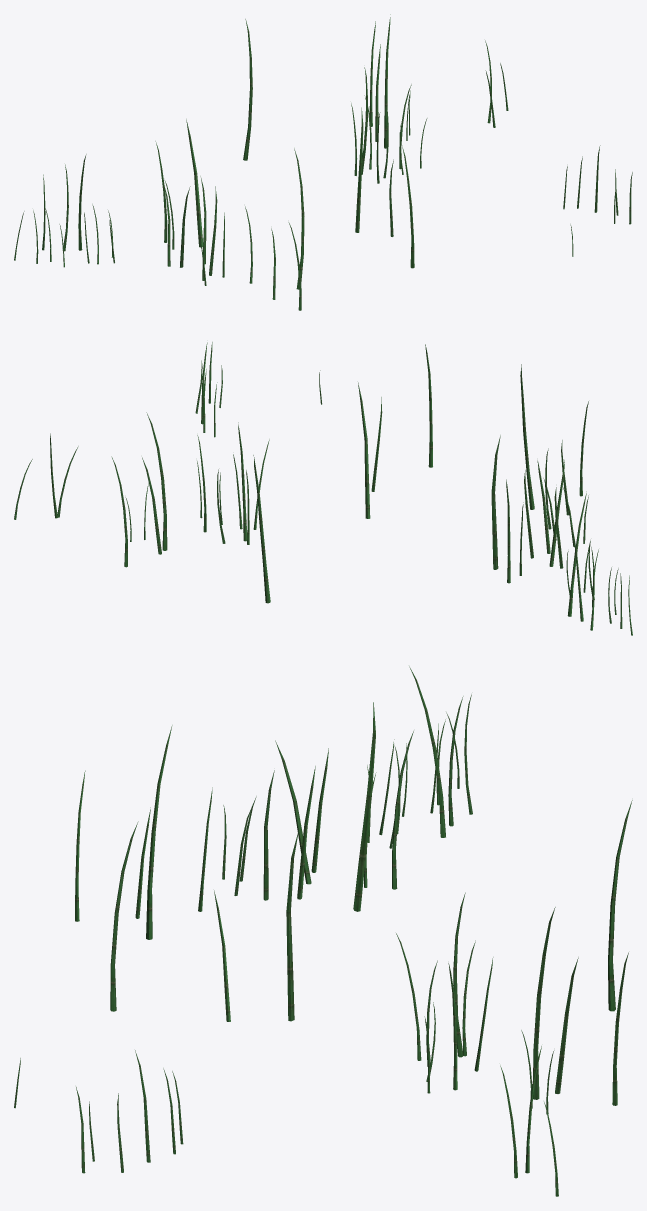
Rendered from Area_12_40.fbx.
3 renders of one model, top to bottom at view 1: azimuth 30°, elevation 25°; view 2: azimuth 150°, elevation 25°; view 3: azimuth 270°, elevation 25°, orthographic. The views are drawn at different scales.
Visible parts, largest first — view 1: Area_12_40; view 2: Area_12_40; view 3: Area_12_40.
Boxes of the visible parts, x1,y1,x2,y2 form: Area_12_40: (14,14,632,310); Area_12_40: (14,342,632,635); Area_12_40: (14,666,632,1196).
Bounding box in the file's own units: 8937 × 2237 × 5733.
